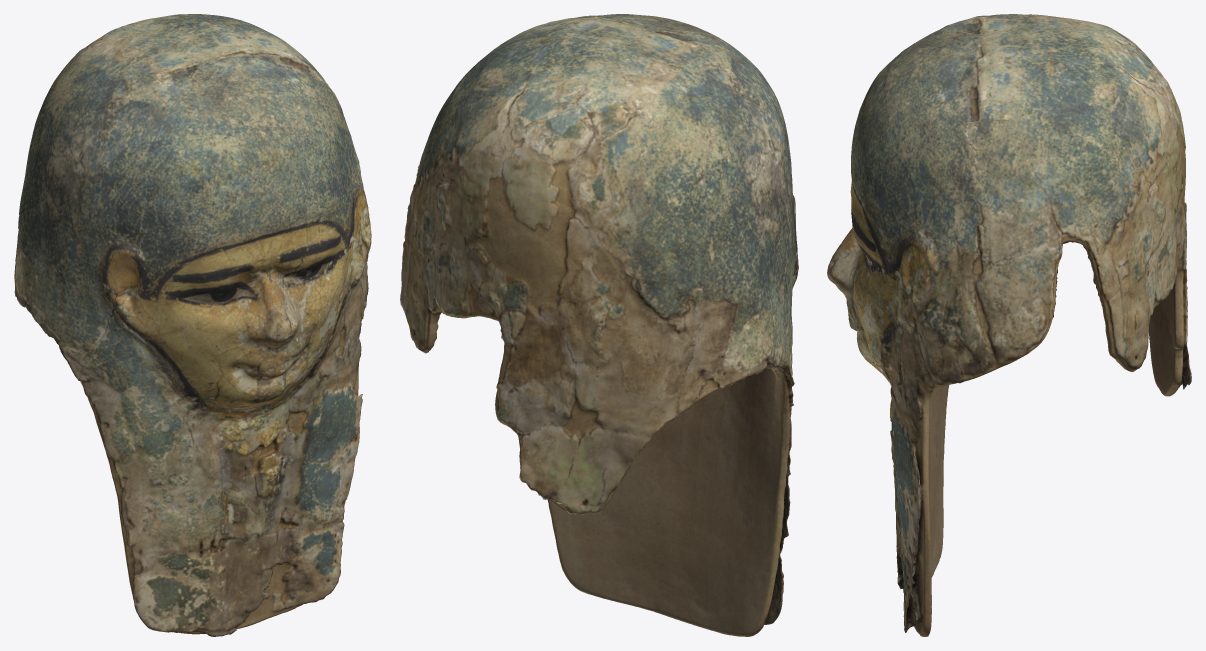
The model's file is Waggis.glb.
The picture shows the model from 3 angles, left to right: view 1: azimuth 30°, elevation 25°; view 2: azimuth 150°, elevation 25°; view 3: azimuth 270°, elevation 25°; orthographic projection. The views are drawn at different scales.
Visible parts, largest first — view 1: Object_2, Object_3, Object_4; view 2: Object_2, Object_3, Object_4; view 3: Object_2, Object_3, Object_4.
Part boxes in pixels (x1=…): Object_2: x1=14, y1=14, x2=371, y2=628; Object_3: x1=18, y1=14, x2=361, y2=636; Object_4: x1=17, y1=14, x2=347, y2=633; Object_2: x1=449, y1=16, x2=797, y2=636; Object_3: x1=400, y1=20, x2=798, y2=635; Object_4: x1=407, y1=14, x2=794, y2=636; Object_2: x1=827, y1=14, x2=1187, y2=636; Object_3: x1=827, y1=26, x2=1191, y2=636; Object_4: x1=851, y1=14, x2=1191, y2=621.
Size of the model in its own units: 0.3095 by 0.5149 by 0.2965.
1 material, 1 textured.
